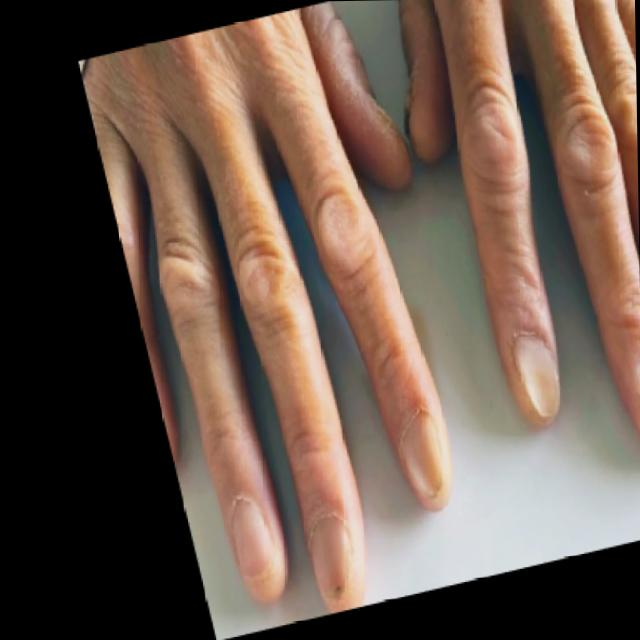Nail: (512, 336, 558, 417), (230, 495, 273, 577), (401, 412, 441, 498), (307, 517, 347, 580)
